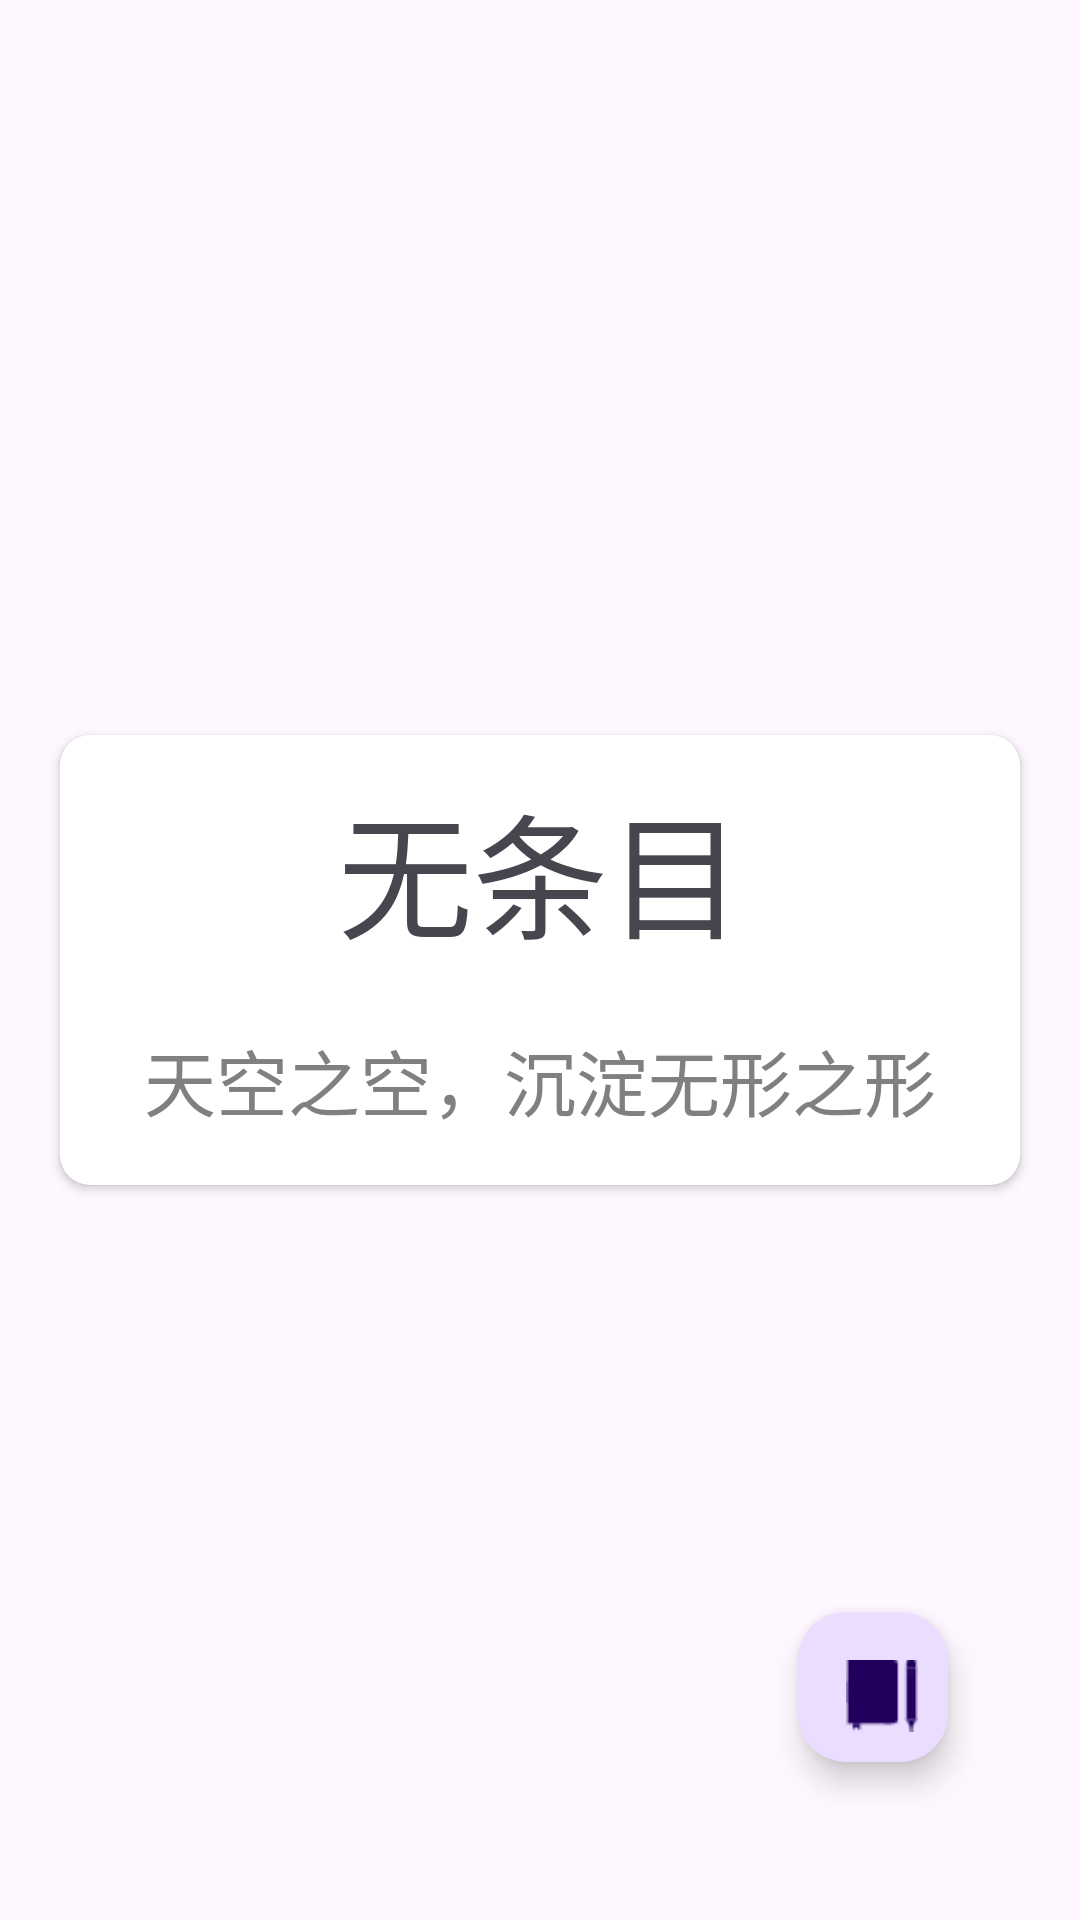

Named icons in this screenshot (1080*1920) and their bounding boxes, (x1, y1, x2, y2):
add note: (798, 1612, 948, 1762)
